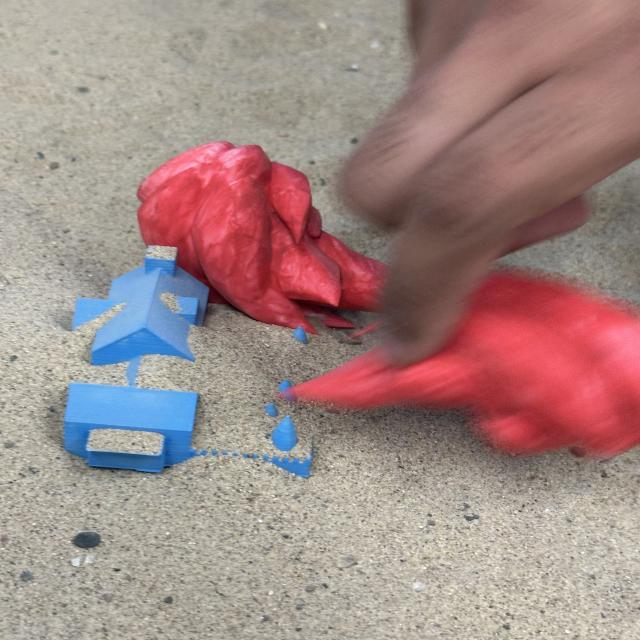fire: (271, 276, 640, 454), (135, 140, 391, 337)
house: (70, 243, 324, 475)
